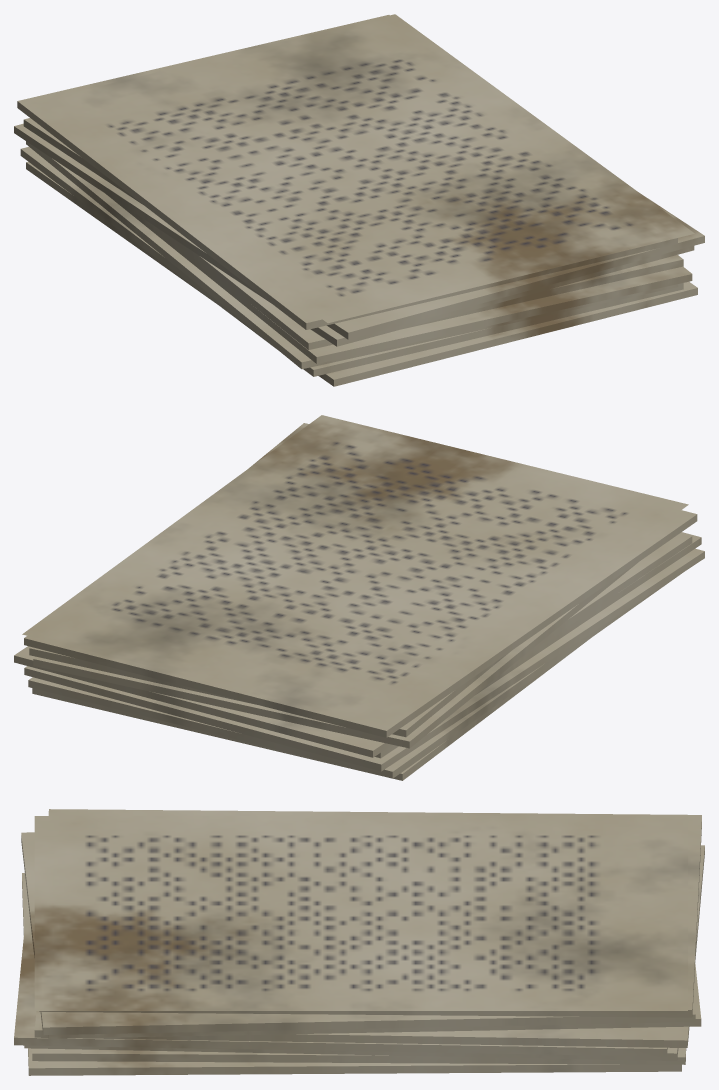
The model's file is SM_Paper_Stack.fbx.
The picture shows the model from 3 angles, top to bottom: view 1: azimuth 30°, elevation 25°; view 2: azimuth 150°, elevation 25°; view 3: azimuth 270°, elevation 25°; orthographic projection. The views are drawn at different scales.
Visible parts, largest first — view 1: SM_Paper_Stack; view 2: SM_Paper_Stack; view 3: SM_Paper_Stack.
Part boxes in pixels (<box>): SM_Paper_Stack: <box>14,14,704,386</box>; SM_Paper_Stack: <box>14,415,704,780</box>; SM_Paper_Stack: <box>14,809,704,1075</box>.
Bounding box in the file's own units: 0.2299 × 0.0324 × 0.3141.
Materials: 1 (1 with a texture image).
